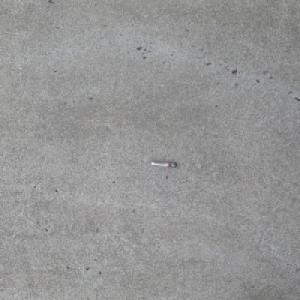Battery: (150, 161, 177, 167)
